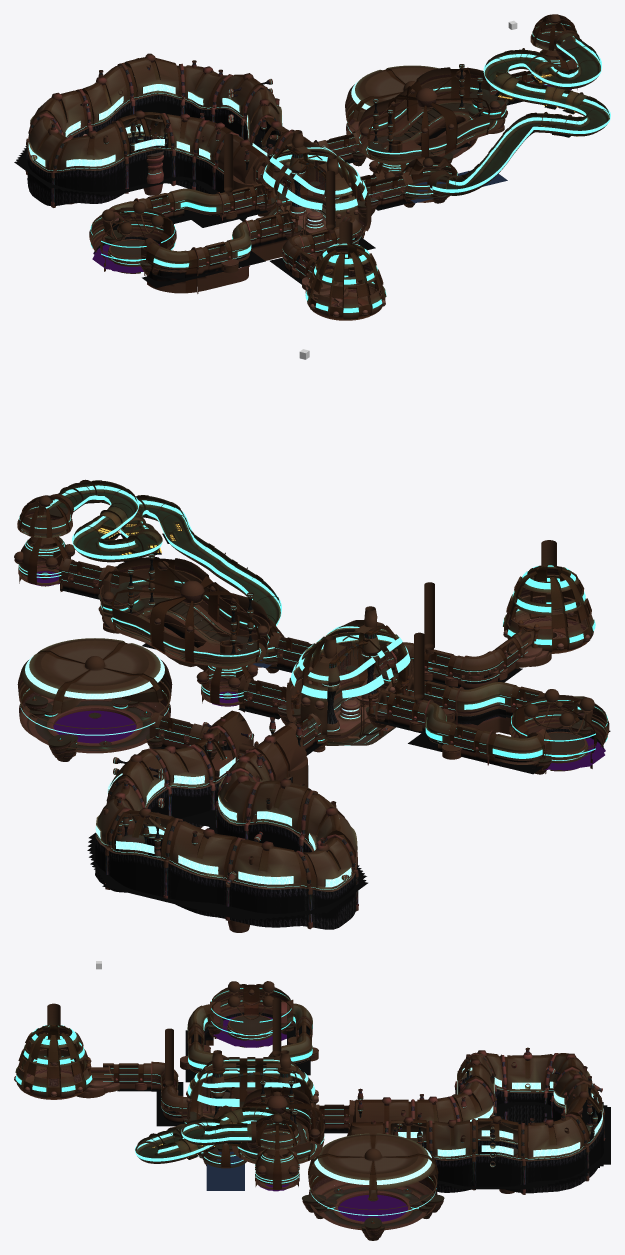
File: preundg.glb
The picture shows the model from 3 angles, top to bottom: view 1: azimuth 30°, elevation 25°; view 2: azimuth 150°, elevation 25°; view 3: azimuth 270°, elevation 25°; orthographic projection. The views are drawn at different scales.
Visible parts, largest first — view 1: largehallflut.001, slide, upper room, hall.005, mainhall, PrecursorBell, hall.004, battlearena, largehallflut.002, hallbendandcap, waterpoolslideend, deathplane.001 (+13 smaller); view 2: largehallflut.001, upper room, largehallflut.002, slide, mainhall, PrecursorBell, hall.004, hall.005, battlearena, hallbendandcap, deathplane.001, climbspire.001 (+13 smaller); view 3: largehallflut.001, largehallflut.002, PrecursorBell, slide, mainhall, upper room, battlearena, hallbendandcap, deathplane.001, launchermodule.001, hall.005, hall.004 (+12 smaller).
Boxes of the visible parts, bbox=[...] form: largehallflut.001: bbox=[25, 53, 310, 221]; slide: bbox=[427, 30, 610, 197]; upper room: bbox=[358, 67, 506, 163]; hall.005: bbox=[141, 211, 292, 293]; mainhall: bbox=[257, 141, 371, 238]; PrecursorBell: bbox=[305, 221, 386, 320]; hall.004: bbox=[103, 183, 266, 238]; battlearena: bbox=[89, 202, 176, 275]; largehallflut.002: bbox=[345, 65, 477, 158]; hallbendandcap: bbox=[281, 213, 361, 279]; waterpoolslideend: bbox=[401, 156, 458, 202]; deathplane.001: bbox=[14, 129, 275, 195]; largehallflut.001: bbox=[95, 710, 358, 929]; upper room: bbox=[99, 557, 270, 670]; largehallflut.002: bbox=[17, 638, 172, 753]; slide: bbox=[44, 479, 281, 639]; mainhall: bbox=[286, 620, 413, 745]; PrecursorBell: bbox=[502, 540, 595, 657]; hall.004: bbox=[376, 689, 551, 770]; hall.005: bbox=[406, 677, 592, 734]; battlearena: bbox=[509, 689, 609, 773]; hallbendandcap: bbox=[378, 632, 527, 689]; deathplane.001: bbox=[87, 808, 367, 920]; climbspire.001: bbox=[321, 606, 379, 732]; largehallflut.001: bbox=[347, 1050, 605, 1194]; largehallflut.002: bbox=[308, 1133, 438, 1230]; PrecursorBell: bbox=[14, 1003, 112, 1099]; slide: bbox=[134, 1106, 284, 1163]; mainhall: bbox=[186, 1057, 318, 1121]; upper room: bbox=[231, 1086, 325, 1163]; battlearena: bbox=[210, 981, 292, 1038]; hallbendandcap: bbox=[103, 1061, 190, 1122]; deathplane.001: bbox=[437, 1100, 610, 1189]; launchermodule.001: bbox=[255, 1135, 299, 1189]; hall.005: bbox=[187, 1001, 226, 1073]; hall.004: bbox=[268, 999, 312, 1064].
Bounding box in the file's own units: 507 × 274 × 549.
180 materials, 177 textured.
